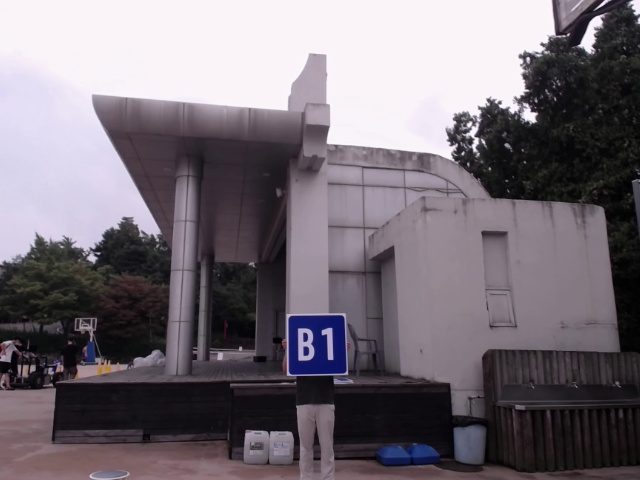delivery_b1: (287, 314, 348, 376)
